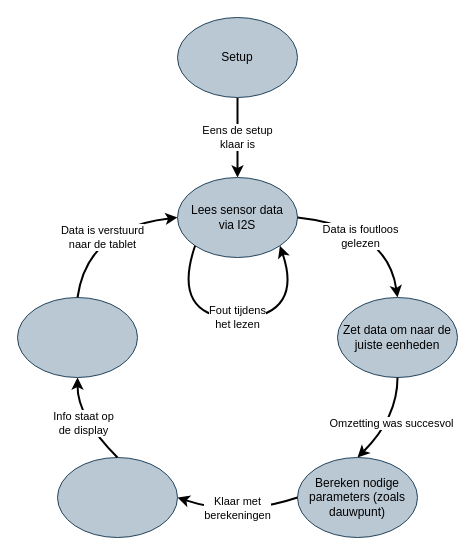
The diagram is 475 pixels wide and 555 high, and some of its shapes have lost their labels. The shapes that lost their labels are listed below. From the top down, each one's box as (x1, y1, x2, y2) in pixels, then its label:
(16, 296, 138, 378): Stuur de nodige data door naar de tablet via UART
(56, 456, 178, 538): Display de nodige informatie op de OLED
